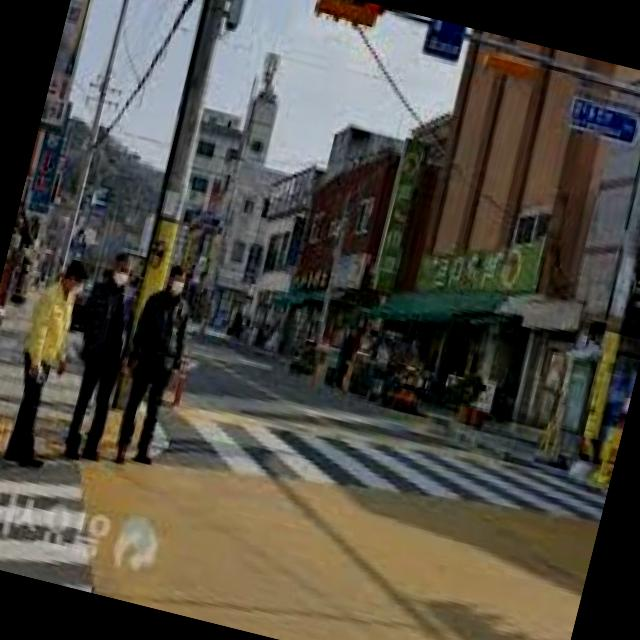Person: (0, 250, 97, 472), (55, 246, 148, 464), (104, 256, 198, 466)
